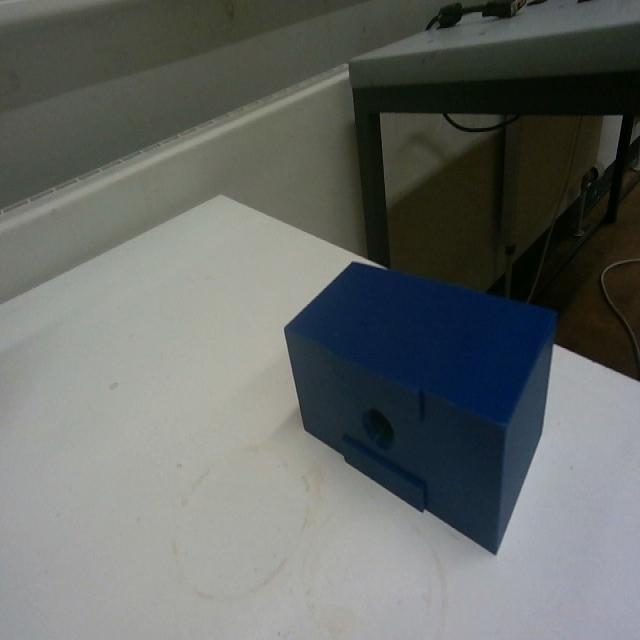Blue Cuboid: (281, 255, 559, 554)
